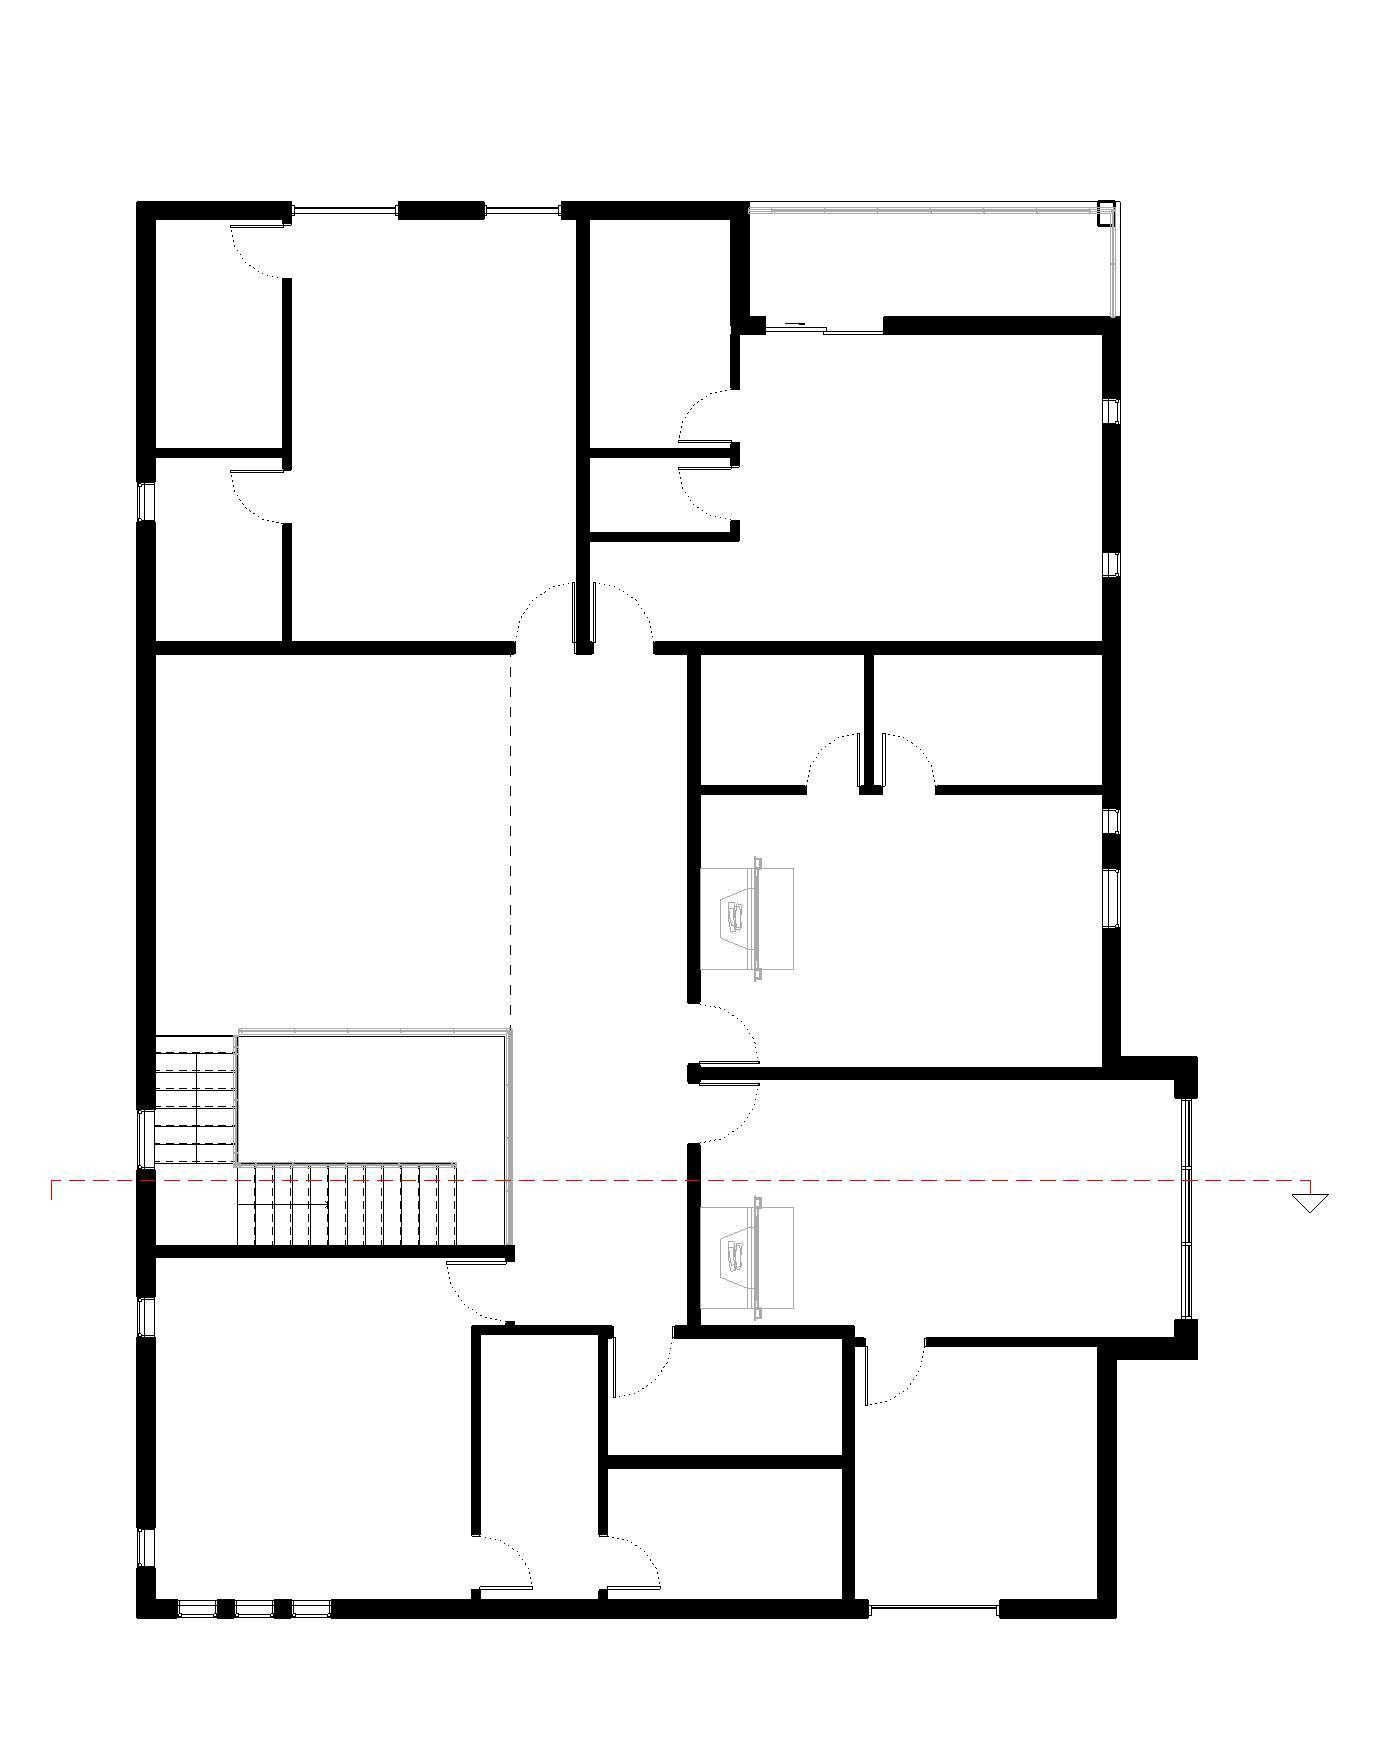room: (583, 324, 1115, 645), (694, 1072, 1187, 1340), (286, 210, 582, 650), (145, 1252, 476, 1609), (692, 789, 1109, 1072), (847, 1342, 1105, 1606), (580, 208, 738, 453), (601, 1458, 849, 1606), (475, 1329, 603, 1607), (146, 212, 289, 453), (869, 648, 1109, 790), (603, 1330, 847, 1462), (146, 453, 289, 647), (692, 650, 867, 790), (582, 452, 736, 537)
